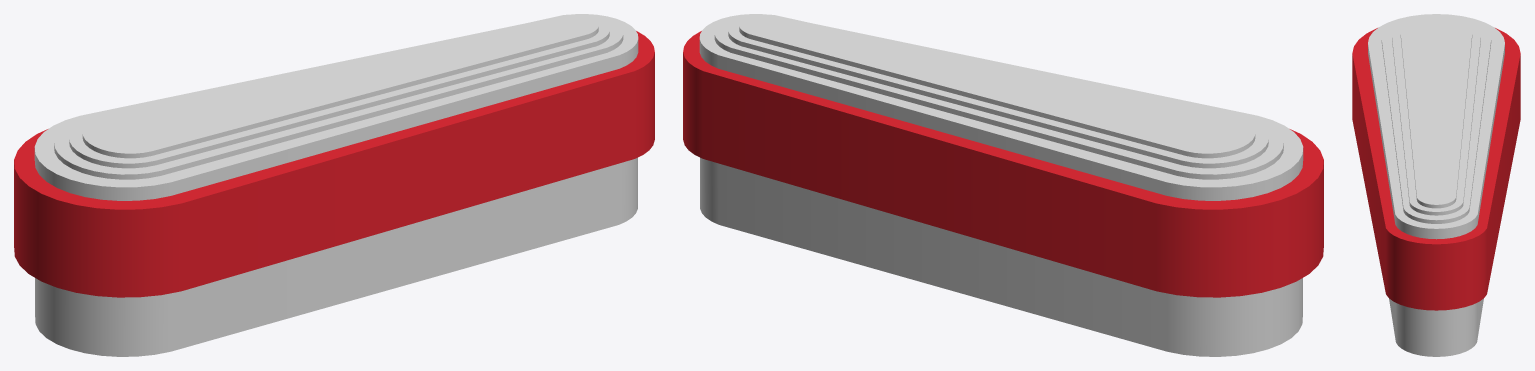
The model's file is Flipper, Gottlieb, Variant 1 (3in).fbx.
The picture shows the model from 3 angles, left to right: view 1: azimuth 30°, elevation 25°; view 2: azimuth 150°, elevation 25°; view 3: azimuth 270°, elevation 25°; orthographic projection. The views are drawn at different scales.
Visible parts, largest first — view 1: Flipper, Gottlieb (3"); view 2: Flipper, Gottlieb (3"); view 3: Flipper, Gottlieb (3").
Part boxes in pixels (x1,y1,x2,y2): Flipper, Gottlieb (3"): (14,14,654,356); Flipper, Gottlieb (3"): (683,14,1323,356); Flipper, Gottlieb (3"): (1352,14,1520,356).
Bounding box in the file's own units: 8.24 × 2.36 × 2.58.
